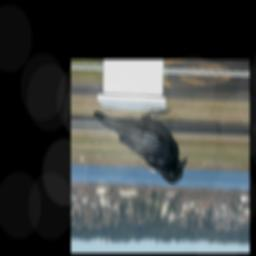Crow: (92, 108, 188, 184)
